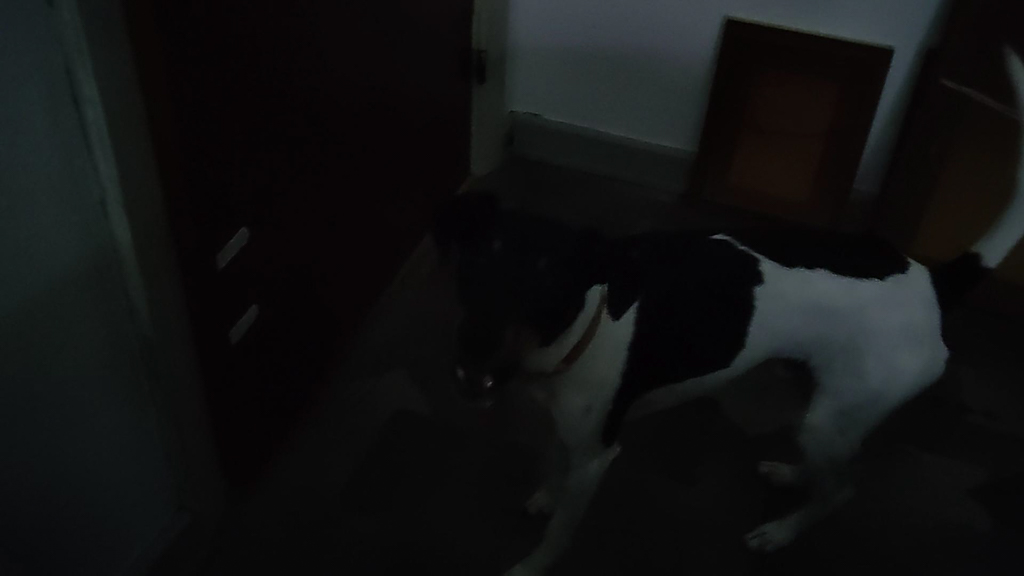Dog: (376, 127, 1024, 576)
